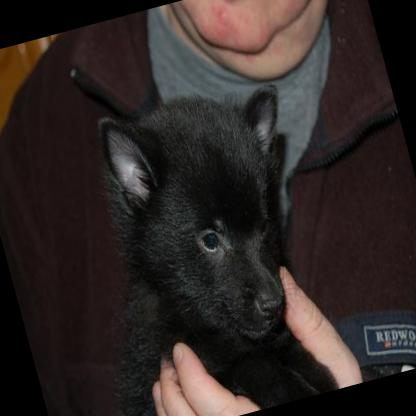schipperke: (25, 71, 349, 416)
